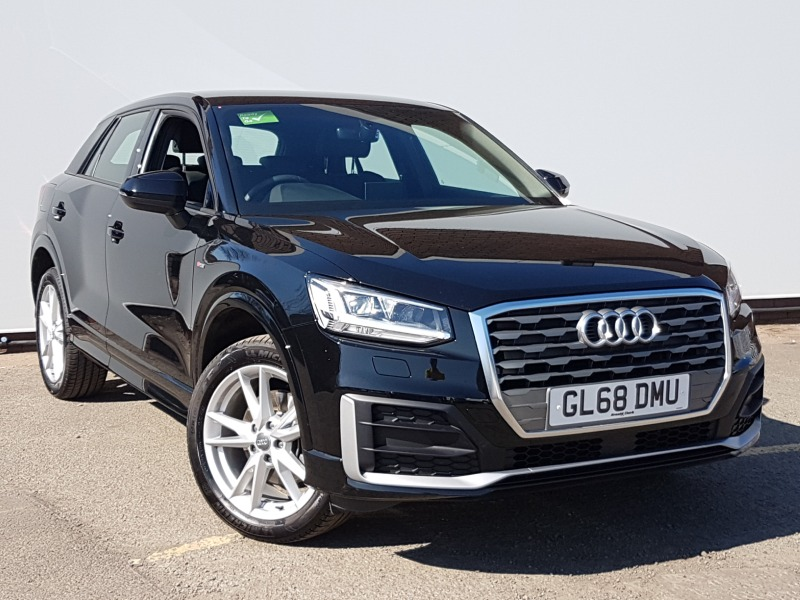audi: (571, 306, 662, 348)
